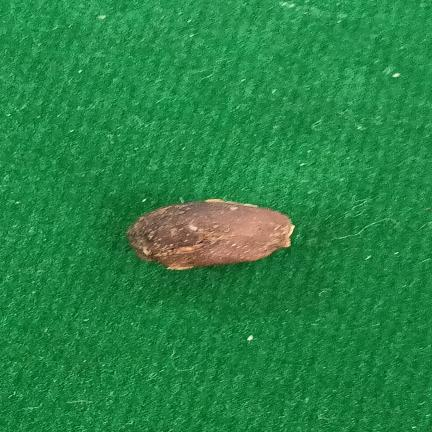husk: (126, 199, 295, 270)
